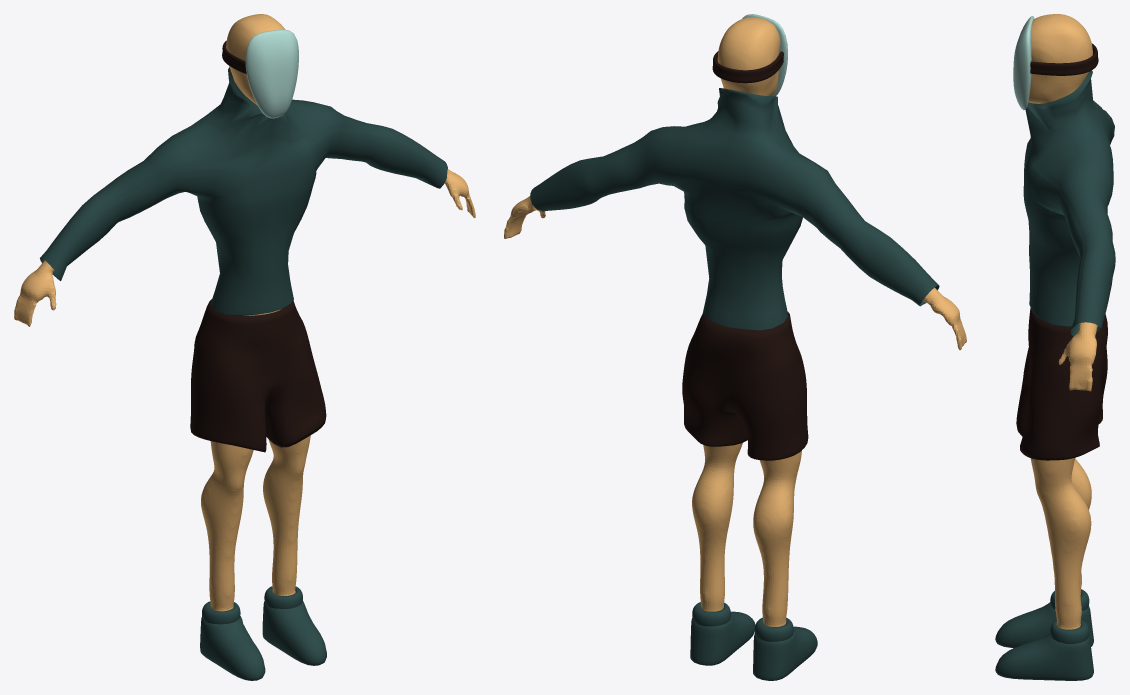
3 renders of one model, left to right at view 1: azimuth 30°, elevation 25°; view 2: azimuth 150°, elevation 25°; view 3: azimuth 270°, elevation 25°, orthographic.
Visible parts, largest first — view 1: Cube.003; view 2: Cube.003; view 3: Cube.003.
Part boxes in pixels (x1,y1,x2,y2): Cube.003: (14, 14, 475, 680); Cube.003: (504, 14, 966, 680); Cube.003: (995, 14, 1115, 680).
Size of the model in its own units: 1013 by 1349 by 230.
